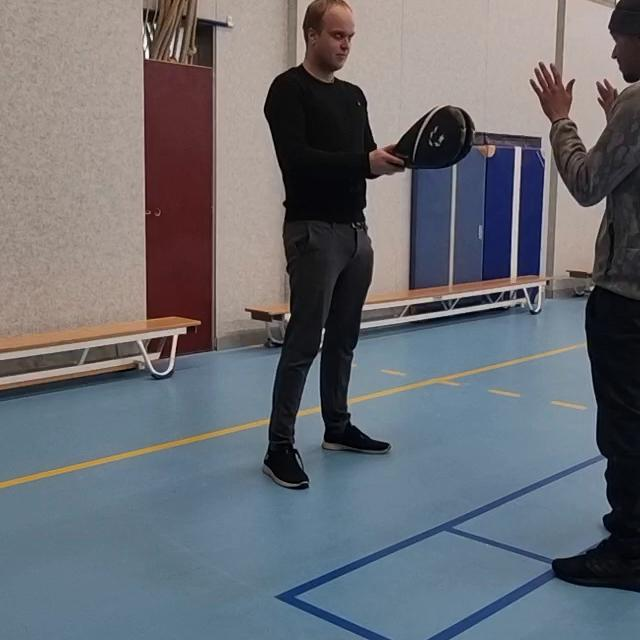paddle: (380, 101, 475, 173)
